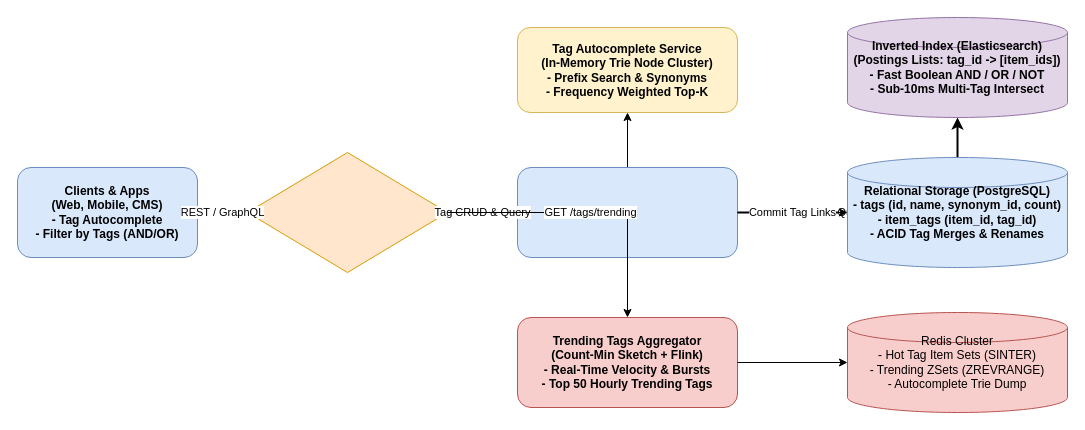
This 1085x430 diagram has some shape labels left out. The shapes that lost their labels are listed below. From the top down, each one's centre as x and y in pixels, then its label:
At point (347, 212): "API Gateway / Envoy (Auth, Rate Limiting, SSL, Query Route Aggregation)".
At point (627, 212): "Tag Core Service (Tag Associations, Hierarchy, Boolean Expression Solver)".
